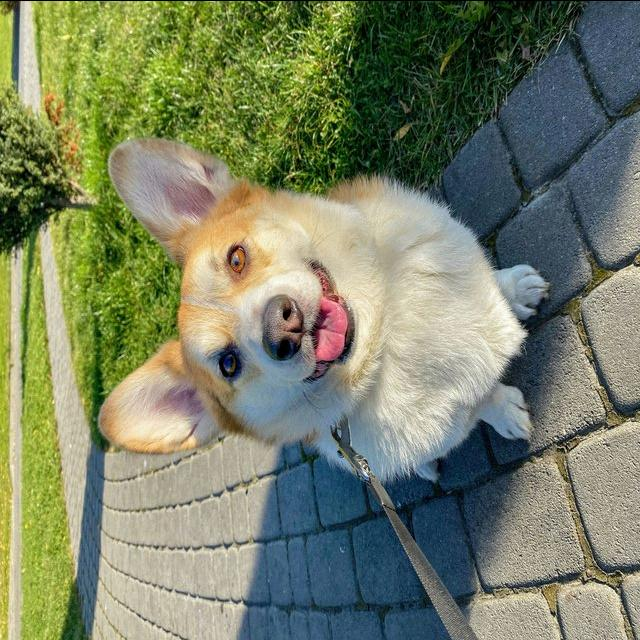corgi: (95, 136, 551, 485)
